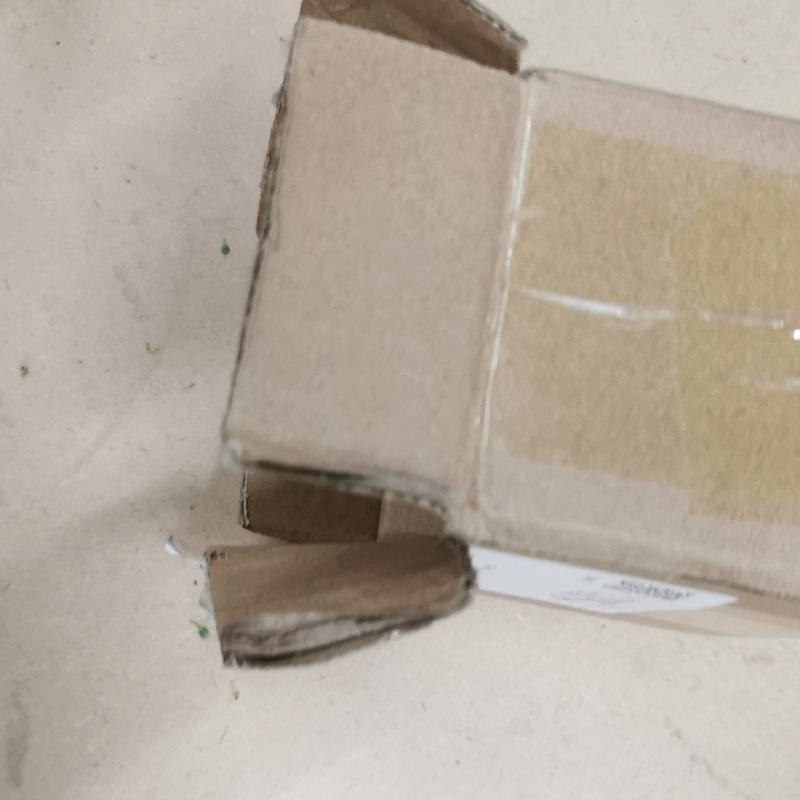boxes: (198, 0, 800, 680)
